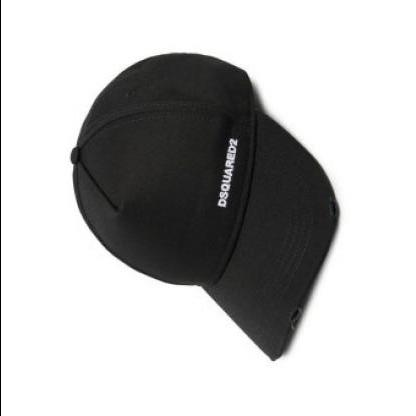cap: (60, 46, 338, 374)
